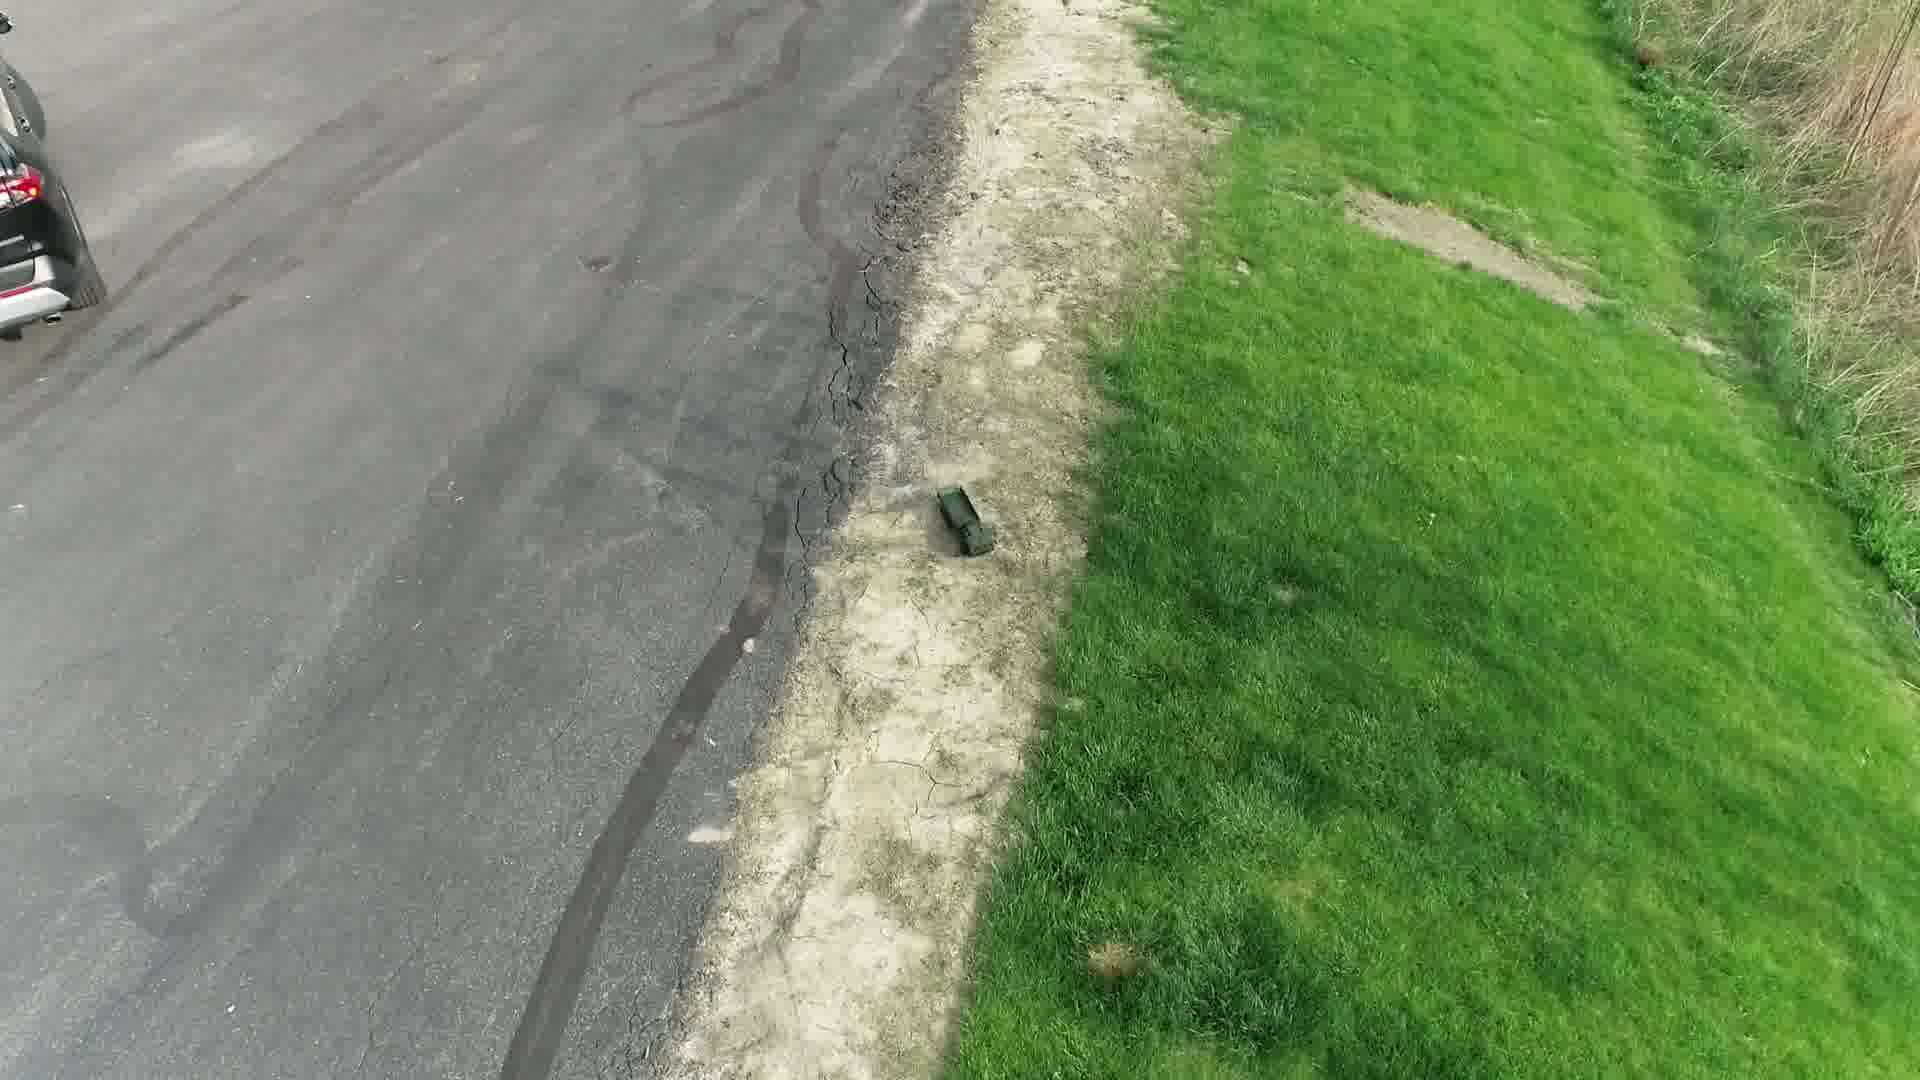transporter9: (934, 484, 1004, 560)
